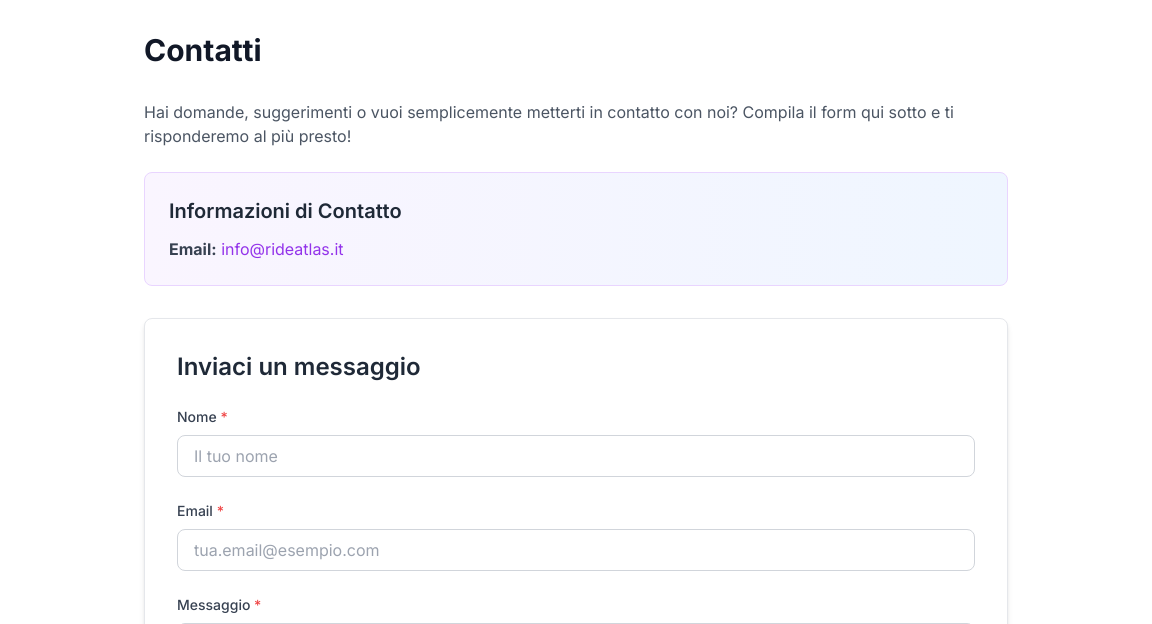
Test: ContattiPage › shows error message when submission fails
Type "Mario Rossi" into the field labelled "Nome *" at x=576, y=456, box x1=177 y1=435 x2=975 y2=477
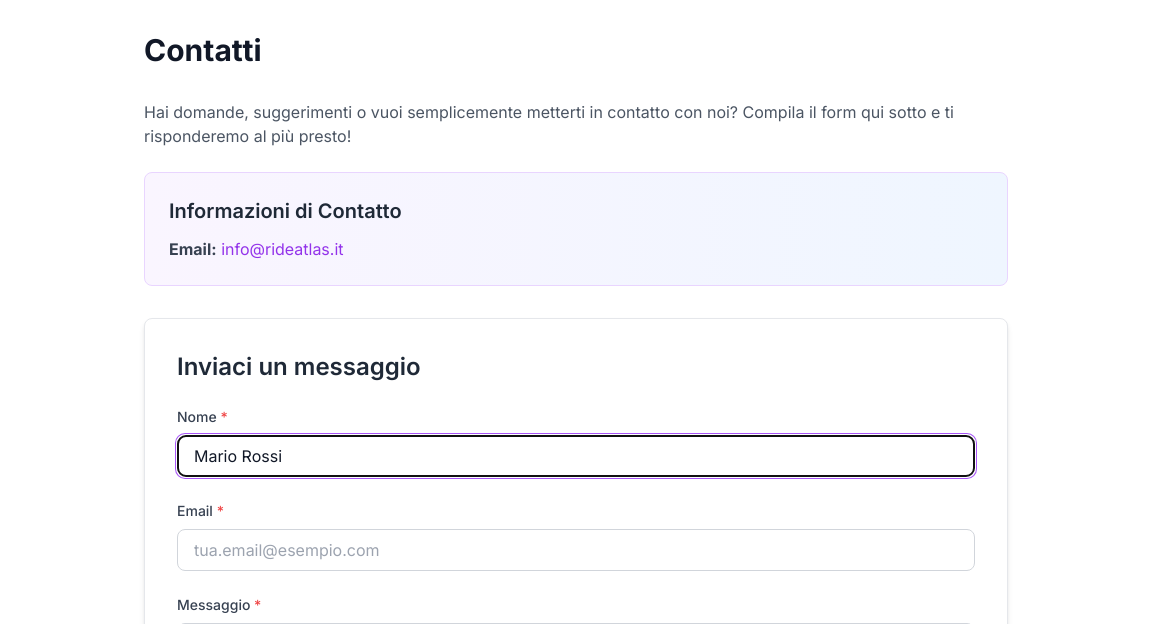
Type "mario@example.com" into the field labelled "Email *" at x=576, y=550, box x1=177 y1=529 x2=975 y2=571
(page scrolled)
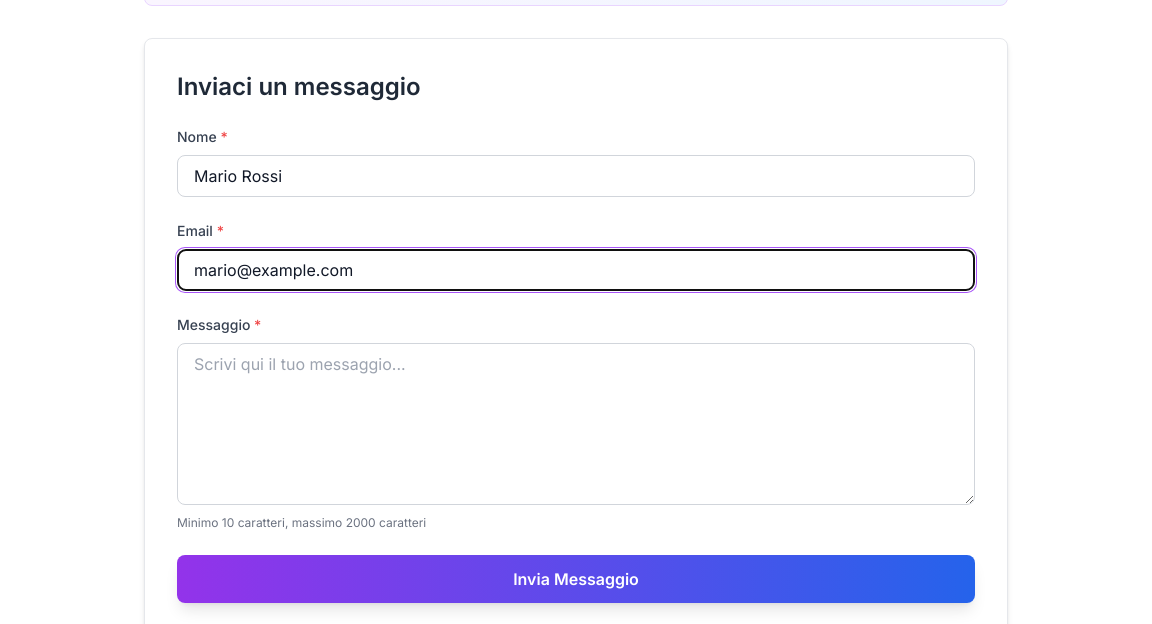
Type "Messaggio che causerà un errore." into the text box labelled "Messaggio *" at x=576, y=424, box x1=177 y1=343 x2=975 y2=505
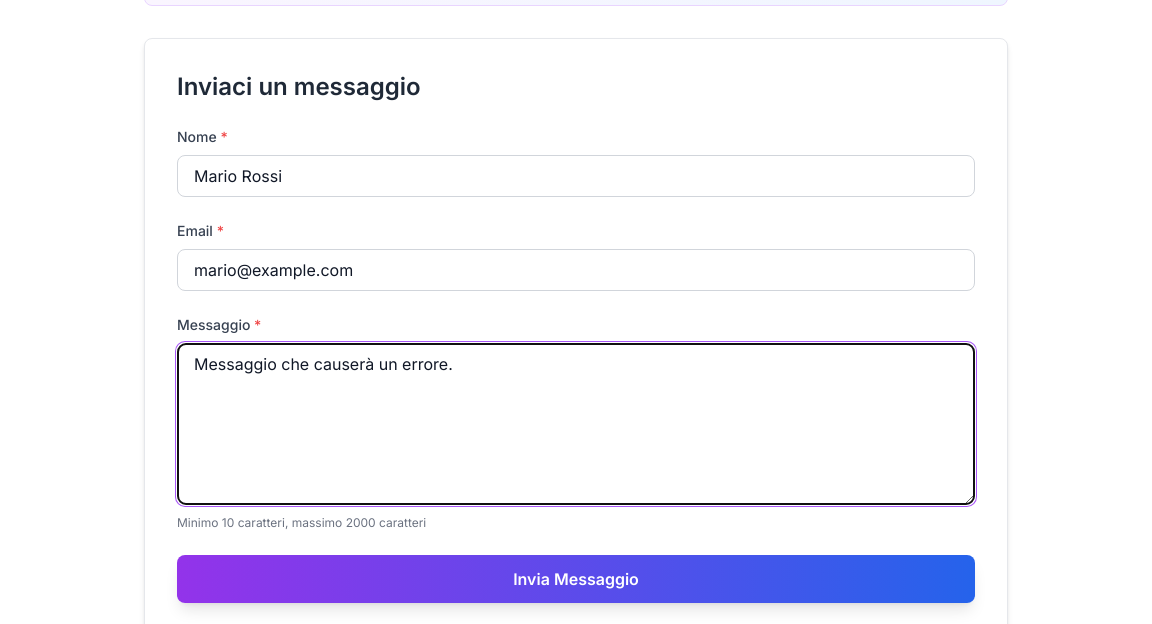
Click the button "Invia Messaggio" at x=576, y=579, box x1=177 y1=555 x2=975 y2=603
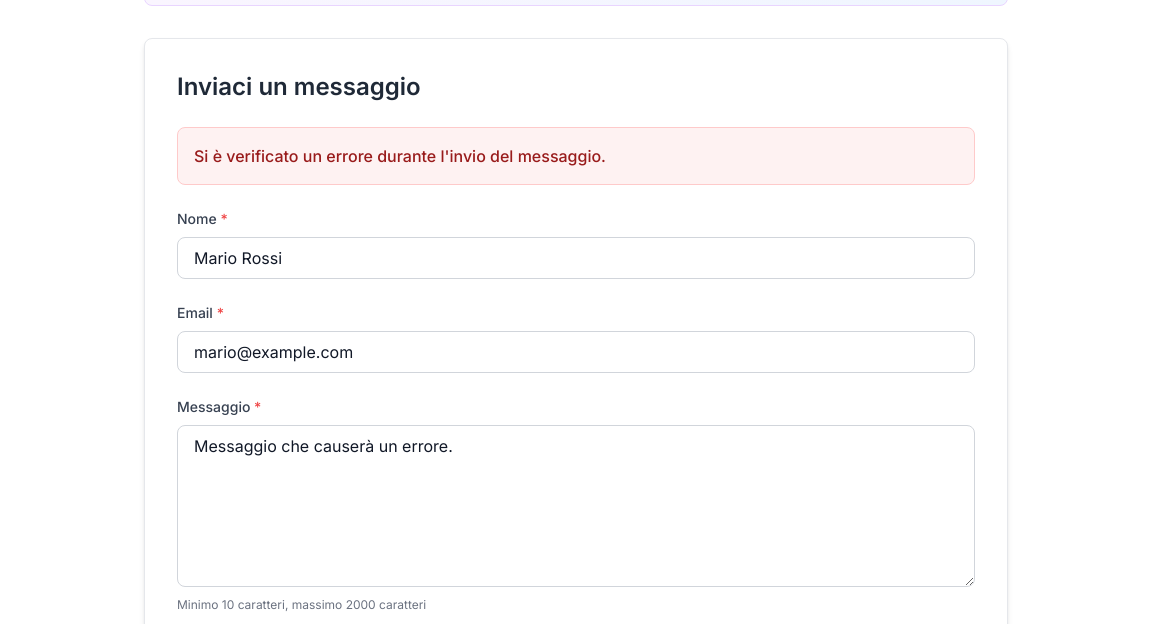
Check: the text "Si è verificato un errore durante l'invio del messaggio." is shown, box x1=194 y1=146 x2=606 y2=166
